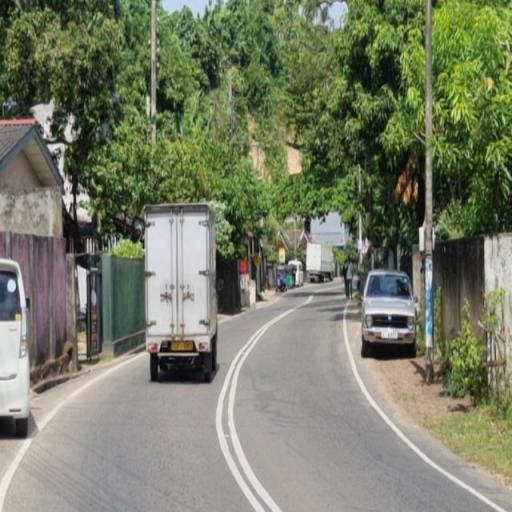double_white_line: (213, 285, 280, 512)
